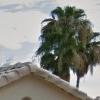Palm tree: (34, 2, 93, 88)
